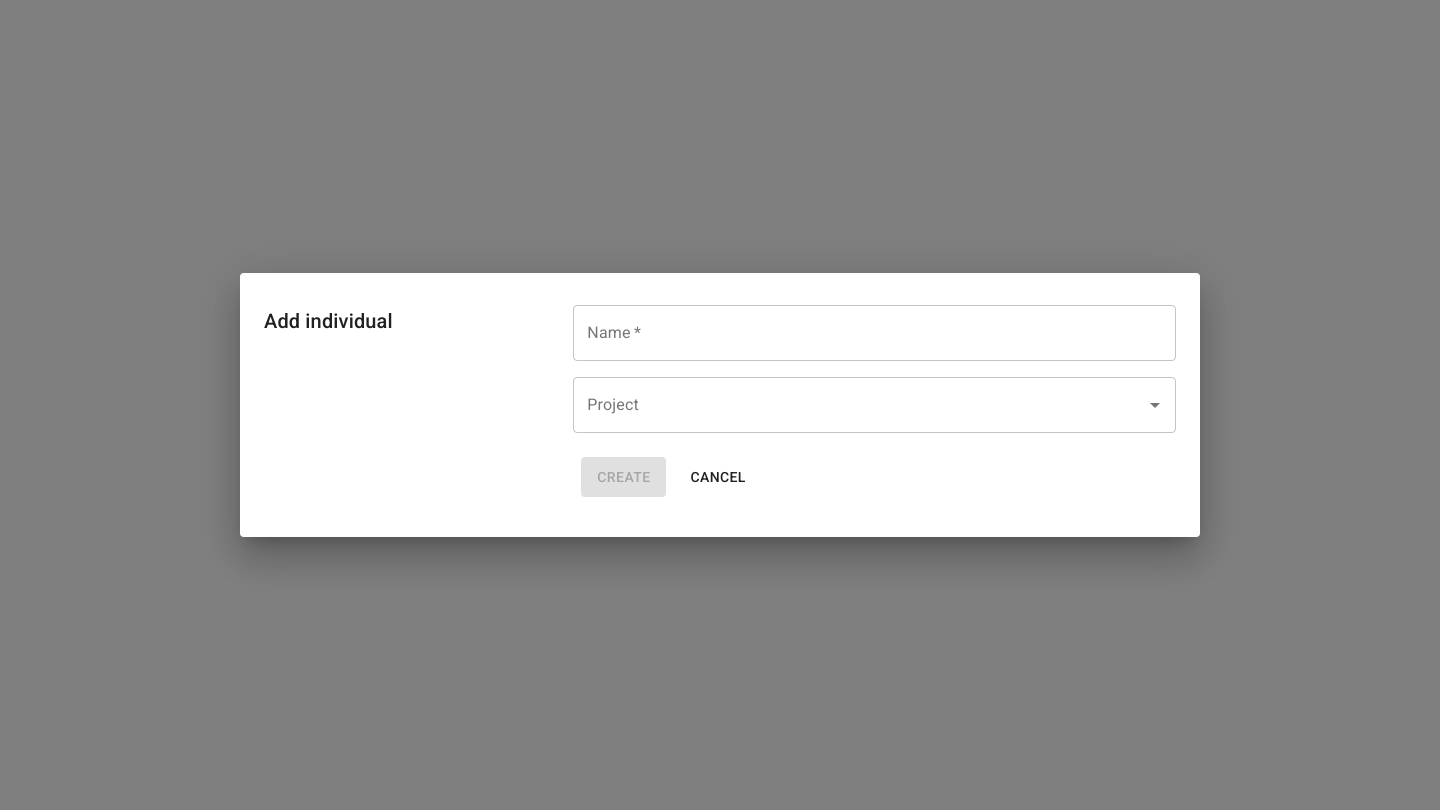
Scenario: Individual Dialog tests › Submit button enabled
The image size is (1440, 810).
Step 1. Type "sherlock" into the field with test id "createNameInput" → (875, 333), box x1=573 y1=305 x2=1176 y2=361
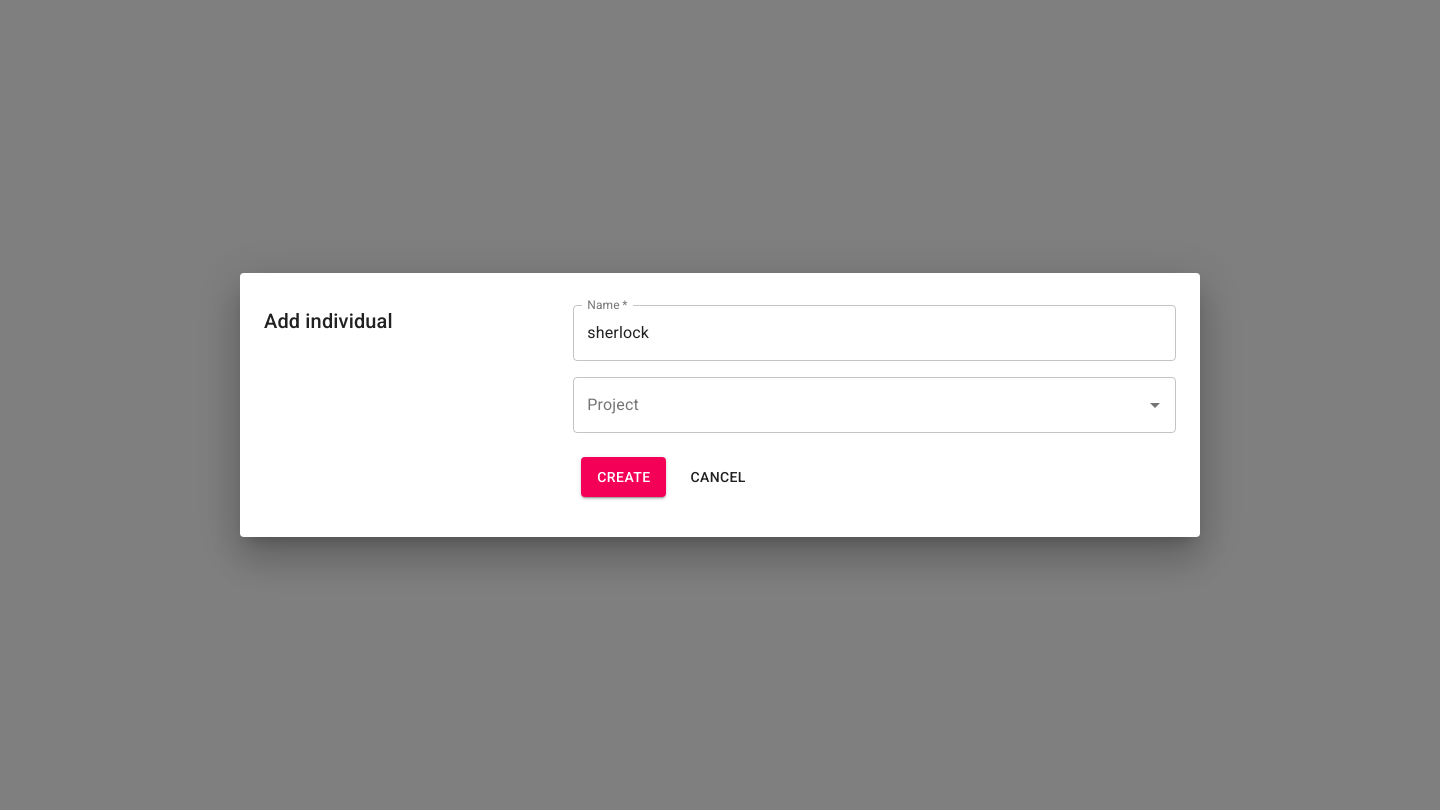
Expected: the button with test id "createSaveButton" is enabled, x1=581 y1=457 x2=666 y2=497
